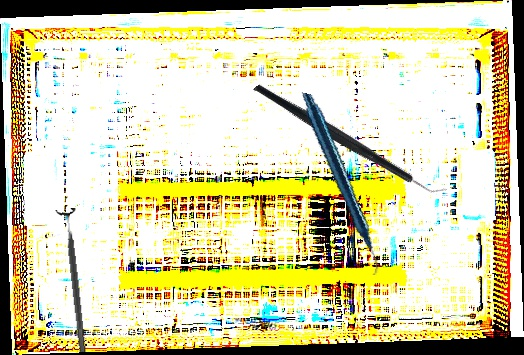Chopper: (252, 32, 450, 245)
Fixation Ring: (53, 207, 95, 354)
Handpiece: (262, 91, 417, 277)
